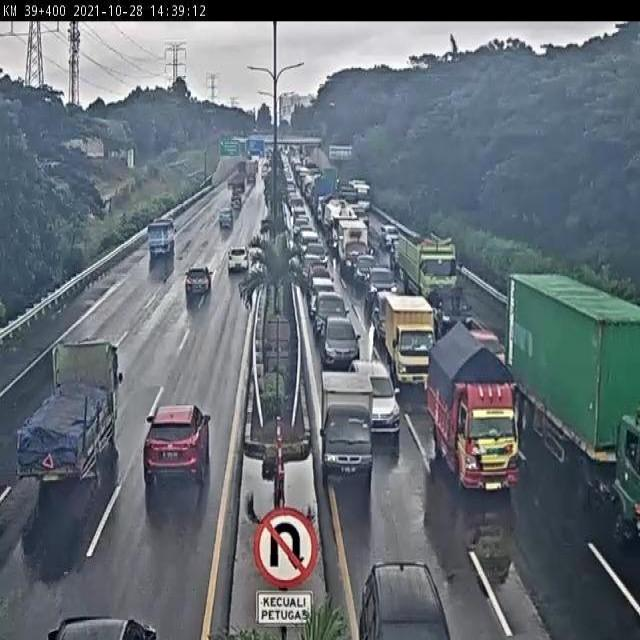big truck: (507, 269, 640, 512), (396, 233, 464, 331)
car: (359, 550, 463, 640), (133, 402, 212, 506), (351, 357, 398, 431), (323, 315, 357, 364), (179, 269, 211, 304), (317, 296, 349, 331), (310, 278, 340, 314), (222, 245, 248, 280), (368, 267, 392, 300), (216, 209, 233, 235)
small truck: (425, 311, 520, 492), (13, 340, 111, 497), (326, 368, 374, 480), (383, 295, 439, 389), (145, 214, 175, 270)
